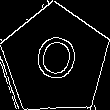O_S: (29, 29, 83, 91)
